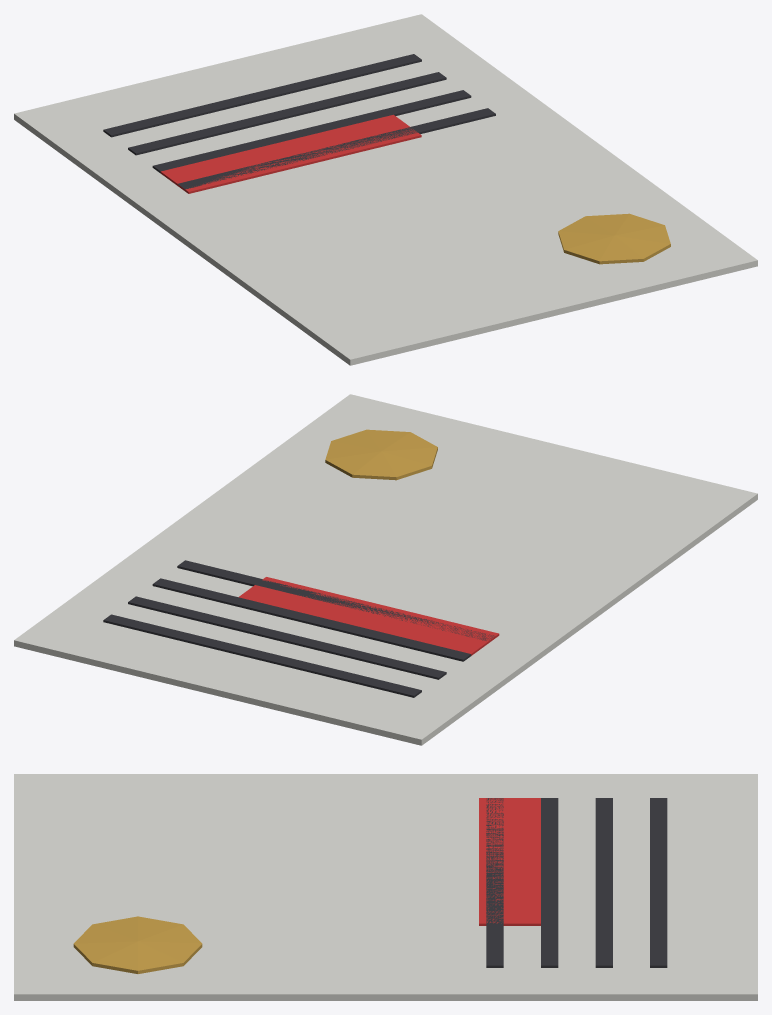
File: painting_policy.glb
3 renders of one model, top to bottom at view 1: azimuth 30°, elevation 25°; view 2: azimuth 150°, elevation 25°; view 3: azimuth 270°, elevation 25°, orthographic. The views are drawn at different scales.
Visible parts, largest first — view 1: sheet_policy_paper, lines_folder_text (×4), amount_script_red, seal_frame_gold; view 2: sheet_policy_paper, lines_folder_text (×4), amount_script_red, seal_frame_gold; view 3: sheet_policy_paper, lines_folder_text (×4), amount_script_red, seal_frame_gold.
Boxes of the visible parts, x1,y1,x2,y2 form: sheet_policy_paper: [14, 14, 757, 365]; lines_folder_text (×4): [103, 54, 495, 189]; amount_script_red: [160, 114, 421, 193]; seal_frame_gold: [558, 213, 670, 264]; sheet_policy_paper: [14, 394, 757, 745]; lines_folder_text (×4): [103, 560, 494, 697]; amount_script_red: [238, 577, 499, 655]; seal_frame_gold: [325, 429, 437, 480]; sheet_policy_paper: [14, 774, 757, 1000]; lines_folder_text (×4): [486, 798, 667, 967]; amount_script_red: [479, 798, 540, 925]; seal_frame_gold: [73, 916, 202, 973].
Size of the model in its own units: 0.21 by 0.0055 by 0.3.
